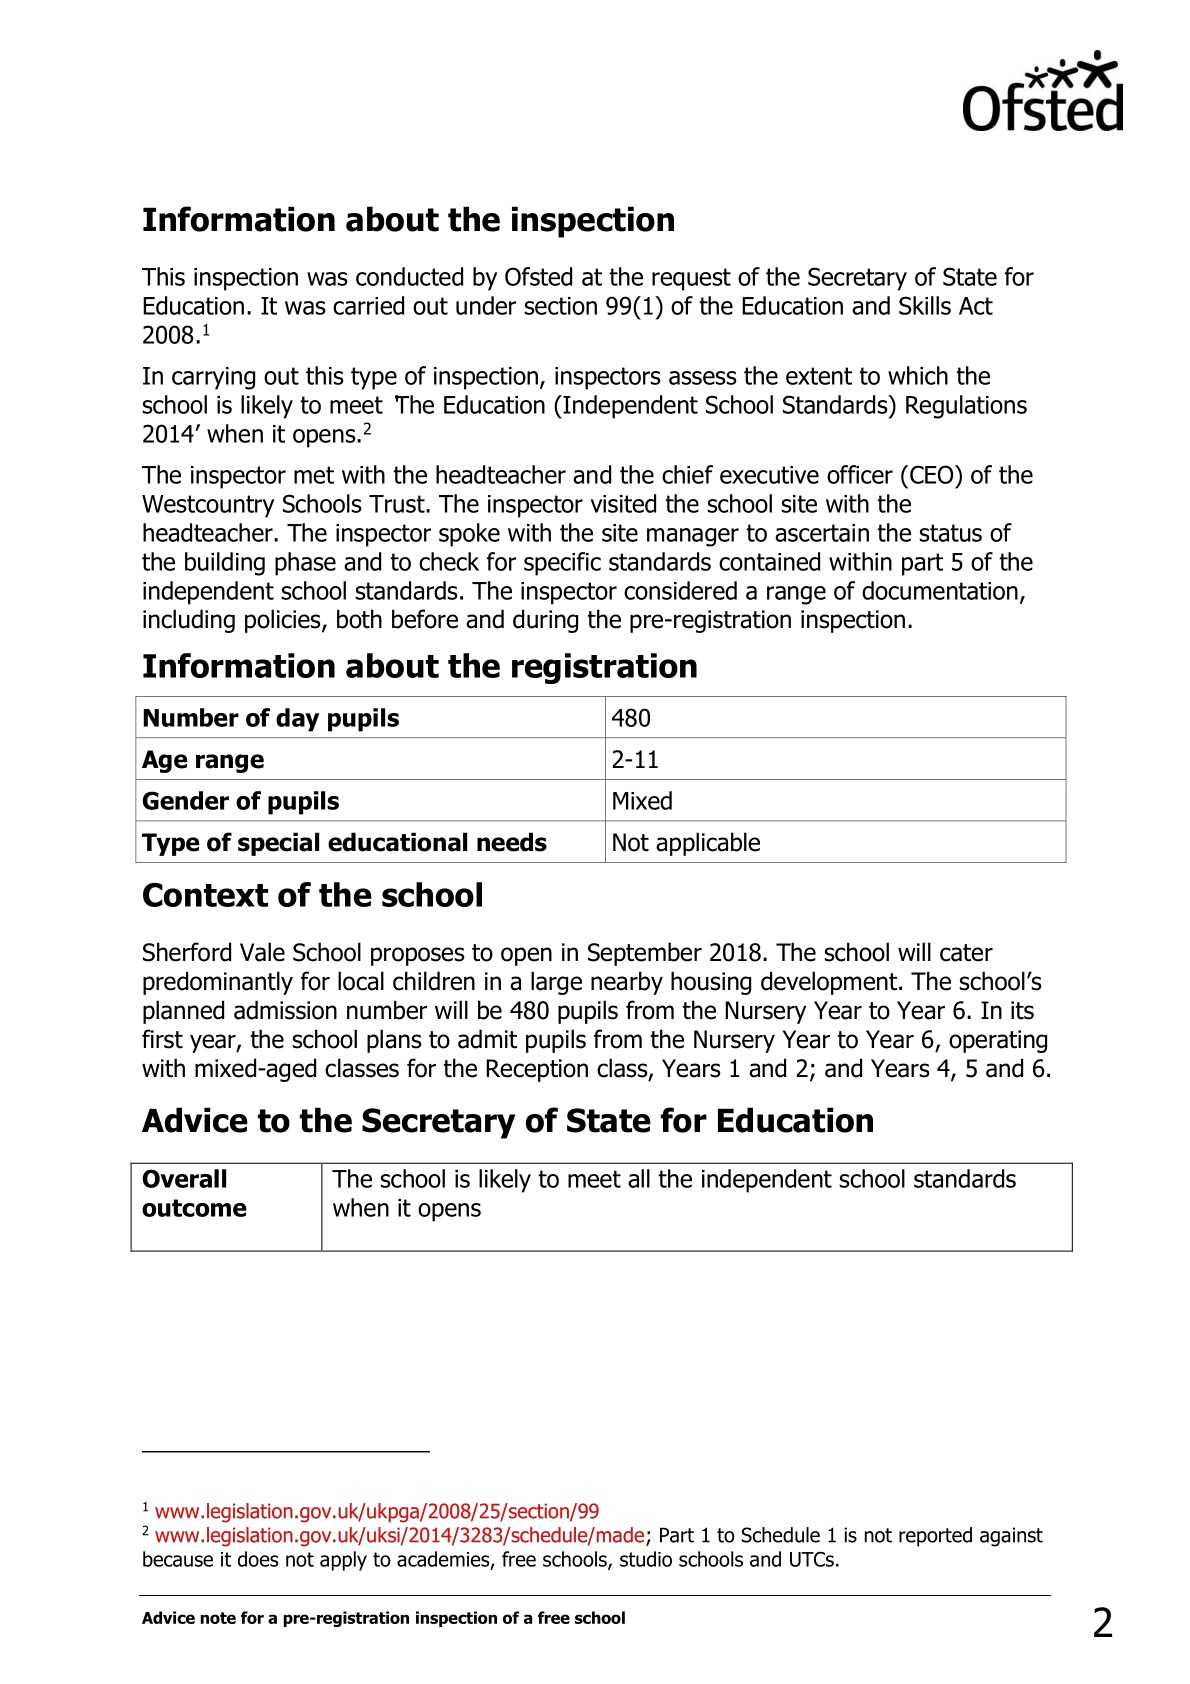full_lined: (134, 694, 1068, 864), (129, 1161, 1074, 1253)
